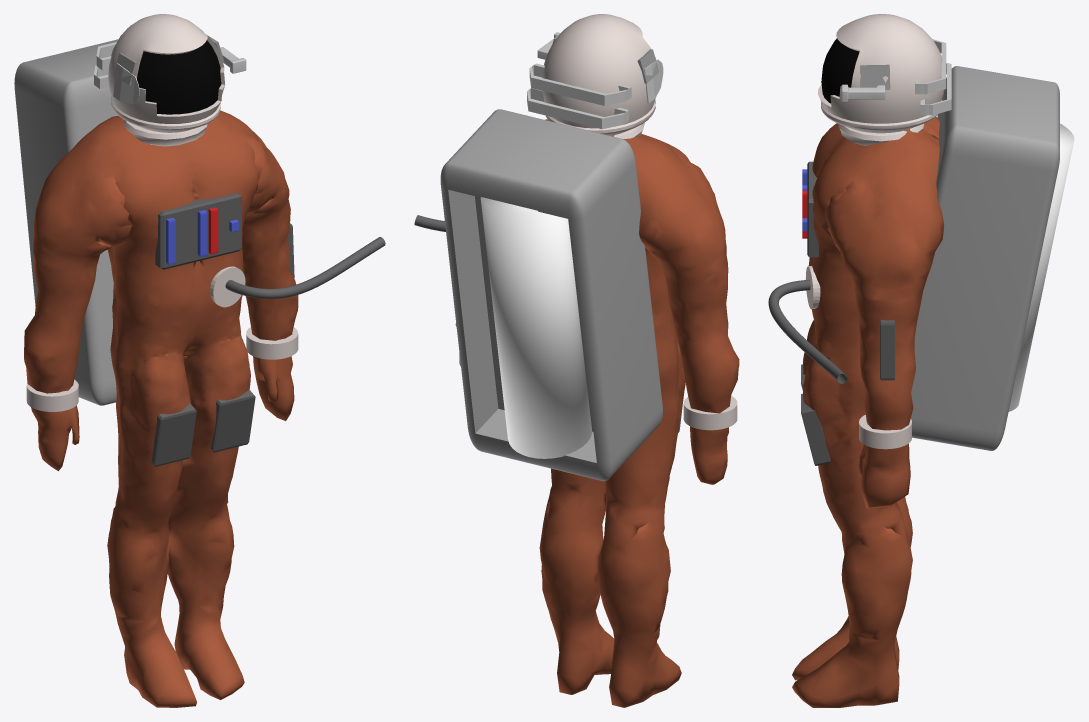
Rendered from human_male.fbx.
3 renders of one model, left to right at view 1: azimuth 30°, elevation 25°; view 2: azimuth 150°, elevation 25°; view 3: azimuth 270°, elevation 25°, orthographic. The views are drawn at different scales.
Visible parts, largest first — view 1: male, Cube.010, Sphere, Cube.002, Cube.007, Cube.008, NurbsPath, Cylinder.003, Cylinder.002, Torus, Cylinder, Cube.013; view 2: male, Cube.010, Cylinder.001, Sphere, Cube.012, Cube.011, Cylinder.002, Cube.013; view 3: male, Cube.010, Sphere, Cylinder.001, NurbsPath, Cylinder.003, Cube.008, Cube.009, Torus, Cube.002, Cube.001, Cube.011 (+2 smaller).
Boxes of the visible parts, bbox=[...] form: male: bbox=[24, 110, 298, 707]; Cube.010: bbox=[14, 39, 118, 405]; Sphere: bbox=[108, 14, 225, 132]; Cube.002: bbox=[155, 193, 241, 269]; Cube.007: bbox=[151, 403, 196, 466]; Cube.008: bbox=[210, 389, 255, 452]; NurbsPath: bbox=[225, 237, 385, 298]; Cylinder.003: bbox=[246, 327, 298, 359]; Cylinder.002: bbox=[26, 379, 78, 411]; Torus: bbox=[124, 120, 207, 146]; Cylinder: bbox=[210, 266, 245, 307]; Cube.013: bbox=[113, 63, 139, 104]; male: bbox=[455, 119, 739, 707]; Cube.010: bbox=[440, 109, 662, 481]; Cylinder.001: bbox=[480, 197, 592, 458]; Sphere: bbox=[542, 14, 656, 135]; Cube.012: bbox=[527, 88, 628, 129]; Cube.011: bbox=[529, 63, 631, 105]; Cylinder.002: bbox=[683, 395, 737, 430]; Cube.013: bbox=[644, 59, 663, 103]; male: bbox=[792, 117, 944, 707]; Cube.010: bbox=[910, 66, 1059, 450]; Sphere: bbox=[818, 14, 944, 133]; Cylinder.001: bbox=[1008, 123, 1074, 411]; NurbsPath: bbox=[768, 280, 847, 383]; Cylinder.003: bbox=[859, 414, 911, 449]; Cube.008: bbox=[801, 393, 830, 465]; Cube.009: bbox=[880, 319, 895, 380]; Torus: bbox=[838, 123, 924, 145]; Cube.002: bbox=[807, 161, 818, 257]; Cube.001: bbox=[860, 64, 890, 89]; Cube.011: bbox=[915, 39, 946, 94].
Bounding box in the file's own units: 935 × 1756 × 727.
